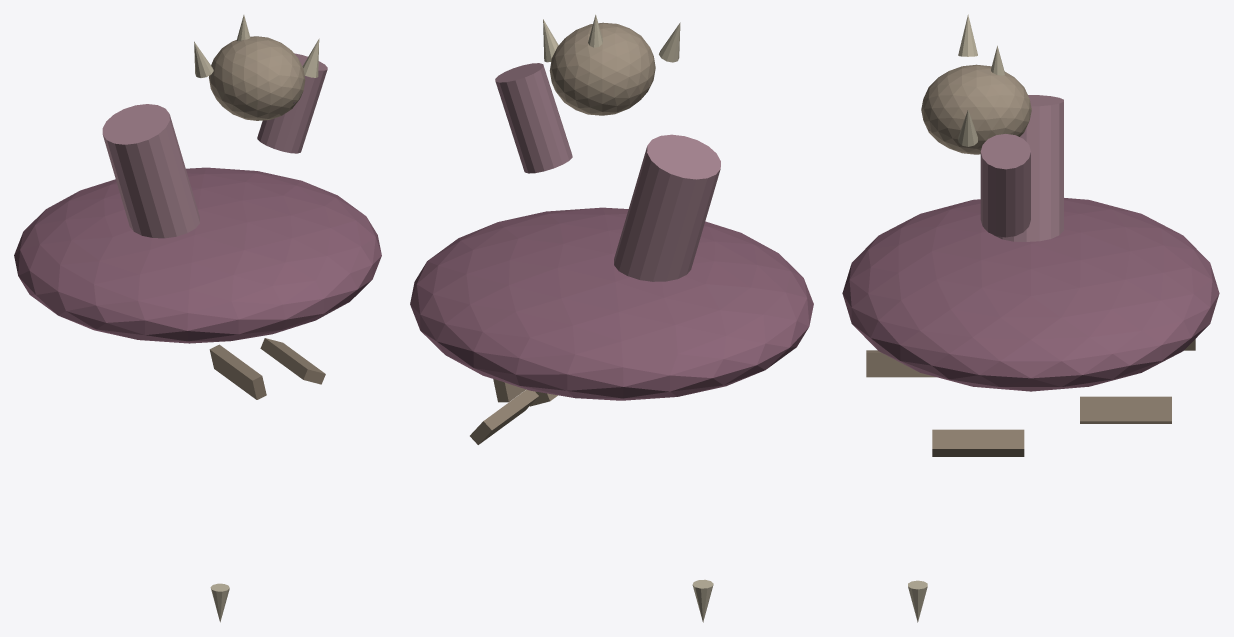
The model's file is zglengo_earth_tentacle.glb.
The picture shows the model from 3 angles, left to right: view 1: azimuth 30°, elevation 25°; view 2: azimuth 150°, elevation 25°; view 3: azimuth 270°, elevation 25°; orthographic projection. The views are drawn at different scales.
Visible parts, largest first — view 1: root_mound, tentacle_stem, maw, neck, root_2, root_3; view 2: root_mound, tentacle_stem, maw, neck, root_6; view 3: root_mound, maw, tentacle_stem, neck, root_3, root_6, root_2.
Part boxes in pixels (bbox=[...]): root_mound: bbox=[14, 167, 381, 343]; tentacle_stem: bbox=[102, 104, 199, 238]; maw: bbox=[209, 36, 305, 120]; neck: bbox=[257, 53, 327, 153]; root_2: bbox=[209, 344, 266, 399]; root_3: bbox=[260, 338, 325, 384]; root_mound: bbox=[410, 207, 813, 400]; tentacle_stem: bbox=[614, 134, 720, 281]; maw: bbox=[549, 22, 655, 115]; neck: bbox=[495, 63, 572, 173]; root_6: bbox=[470, 389, 538, 444]; root_mound: bbox=[842, 198, 1219, 391]; maw: bbox=[921, 64, 1031, 154]; tentacle_stem: bbox=[994, 95, 1063, 241]; neck: bbox=[980, 134, 1030, 237]; root_3: bbox=[932, 429, 1024, 456]; root_6: bbox=[1080, 396, 1171, 423]; root_2: bbox=[866, 350, 935, 377].
Size of the model in its own units: 1.92 by 3.21 by 1.8.
